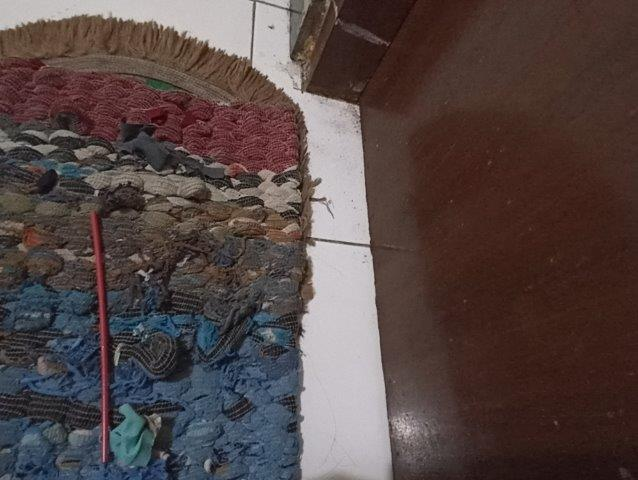sedotan: (91, 213, 109, 462)
